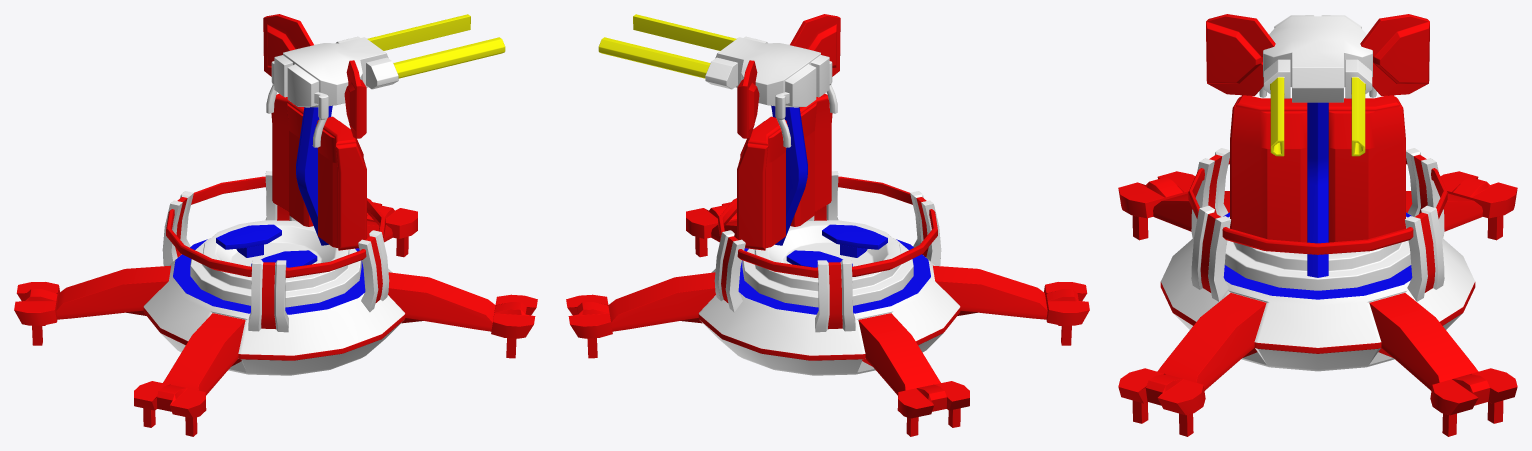
File: SM_DefensePlatform.fbx
The picture shows the model from 3 angles, left to right: view 1: azimuth 30°, elevation 25°; view 2: azimuth 150°, elevation 25°; view 3: azimuth 270°, elevation 25°; orthographic projection. The views are drawn at different scales.
Parts seen in each view (by area): view 1: RootBase, MeshBackCannon, MeshCannonRoot; view 2: RootBase, MeshBackCannon, MeshCannonRoot; view 3: RootBase, MeshBackCannon, MeshCannonRoot.
Boxes of the visible parts, x1,y1,x2,y2 form: RootBase: (14, 171, 537, 436); MeshBackCannon: (216, 14, 505, 267); MeshCannonRoot: (190, 220, 361, 307); RootBase: (566, 171, 1089, 436); MeshBackCannon: (598, 14, 887, 267); MeshCannonRoot: (742, 220, 913, 307); RootBase: (1118, 148, 1517, 436); MeshBackCannon: (1206, 14, 1429, 277); MeshCannonRoot: (1224, 216, 1411, 290).
Bounding box in the file's own units: 273 × 195 × 182.
